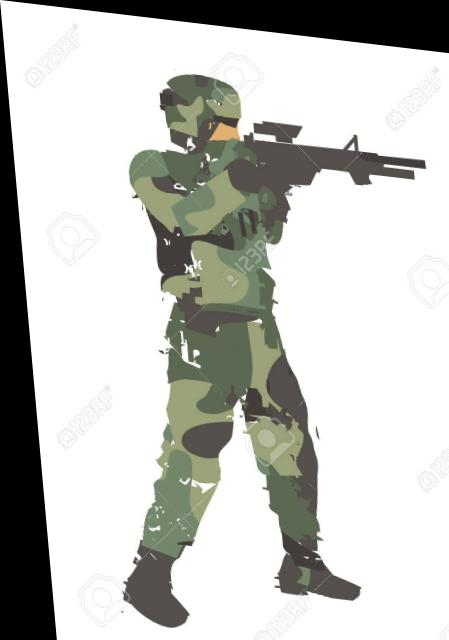other: (112, 64, 333, 601)
